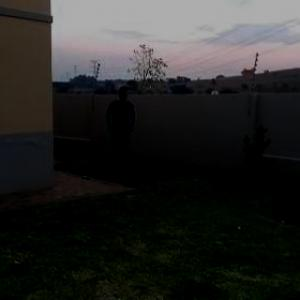follow: (104, 84, 137, 181)
